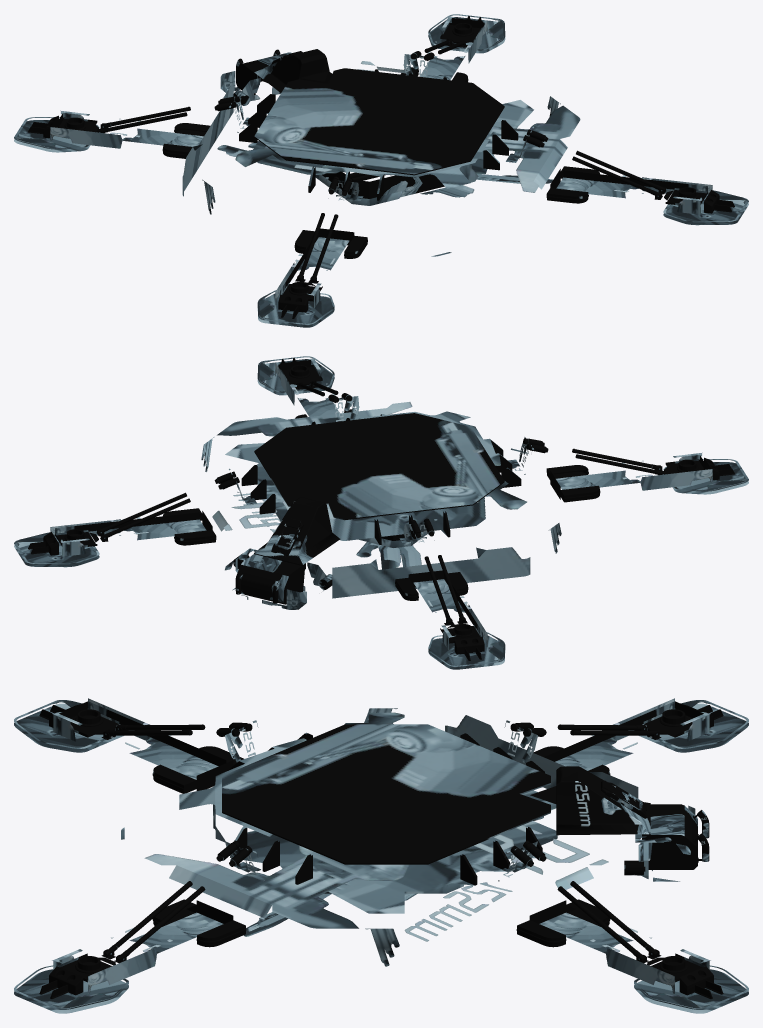
Rendered from FIRESTORM_125mmTripleAutoCannon.fbx.
The picture shows the model from 3 angles, top to bottom: view 1: azimuth 30°, elevation 25°; view 2: azimuth 150°, elevation 25°; view 3: azimuth 270°, elevation 25°; orthographic projection. The views are drawn at different scales.
Visible parts, largest first — view 1: Circle.001, StabliserStruts, MBC_DisplayStrut, detector_conveyor_section_001, RearAccessPanel, MBC300S_Base; view 2: Circle.001, StabliserStruts, RearAccessPanel, MBC_DisplayStrut, MBC300S_Base; view 3: Circle.001, StabliserStruts, MBC_DisplayStrut, RearAccessPanel, MBC300S_Base, DoorTerminalFrame.001.
Part boxes in pixels (x1,y1,x2,y2): Circle.001: (182, 61, 580, 256); StabliserStruts: (14, 14, 748, 327); MBC_DisplayStrut: (254, 49, 330, 92); detector_conveyor_section_001: (322, 171, 444, 198); RearAccessPanel: (220, 52, 291, 101); MBC300S_Base: (229, 54, 533, 200); Circle.001: (201, 402, 561, 598); StabliserStruts: (14, 356, 748, 669); RearAccessPanel: (225, 548, 327, 609); MBC_DisplayStrut: (254, 497, 340, 564); MBC300S_Base: (229, 396, 533, 542); Circle.001: (121, 708, 650, 966); StabliserStruts: (14, 698, 748, 1013); MBC_DisplayStrut: (556, 766, 650, 835); RearAccessPanel: (635, 804, 697, 881); MBC300S_Base: (225, 720, 537, 881); DoorTerminalFrame.001: (601, 780, 646, 818).
Size of the model in its own units: 7.65 by 0.9923 by 7.66.
